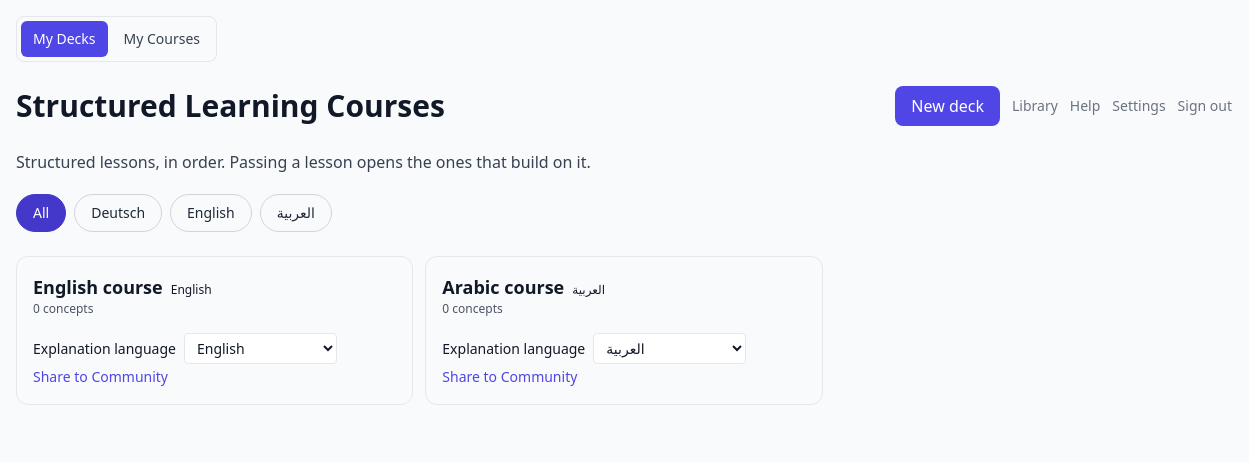
Test: LearnPage › filters owned courses by explanation language
Check: the text "English course" is shown, box [33,275,163,299]
Click the button "العربية": {"x": 296, "y": 213} [260,194,332,232]
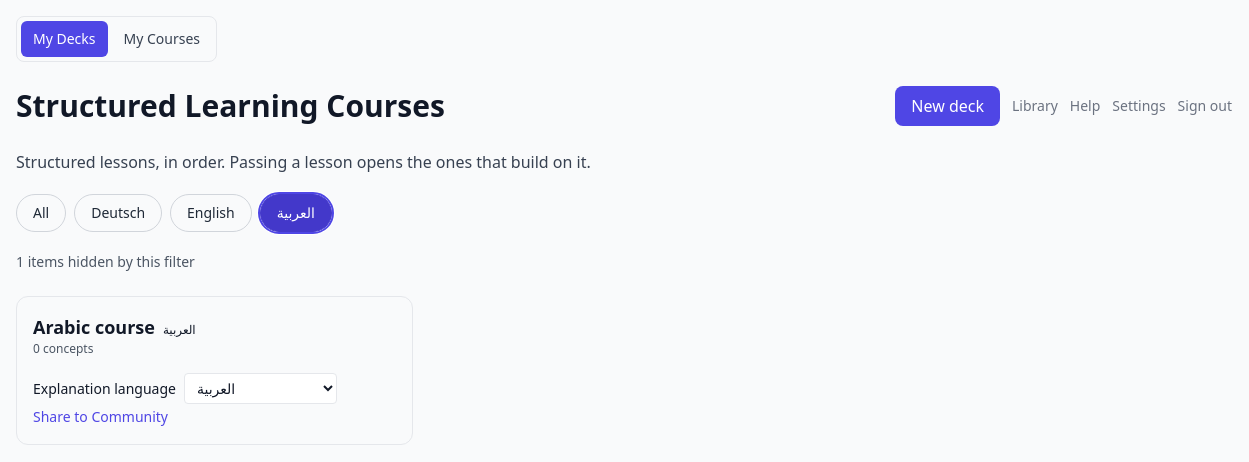
Check: the text "Arabic course" is shown, box [33,315,155,339]
Check: the link "English course" is gone
